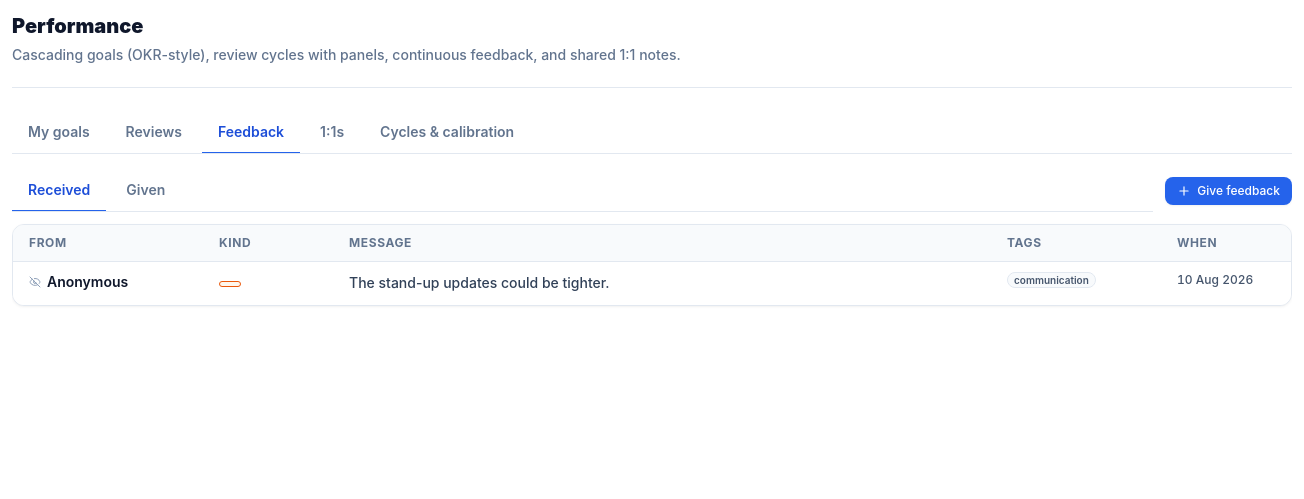
Scenario: feedback › switches to Given, which is a different endpoint
Check: the text "Anonymous" is shown, box [29,272,128,292]
Click the tab "Given" at (146,191), box [110,170,181,212]
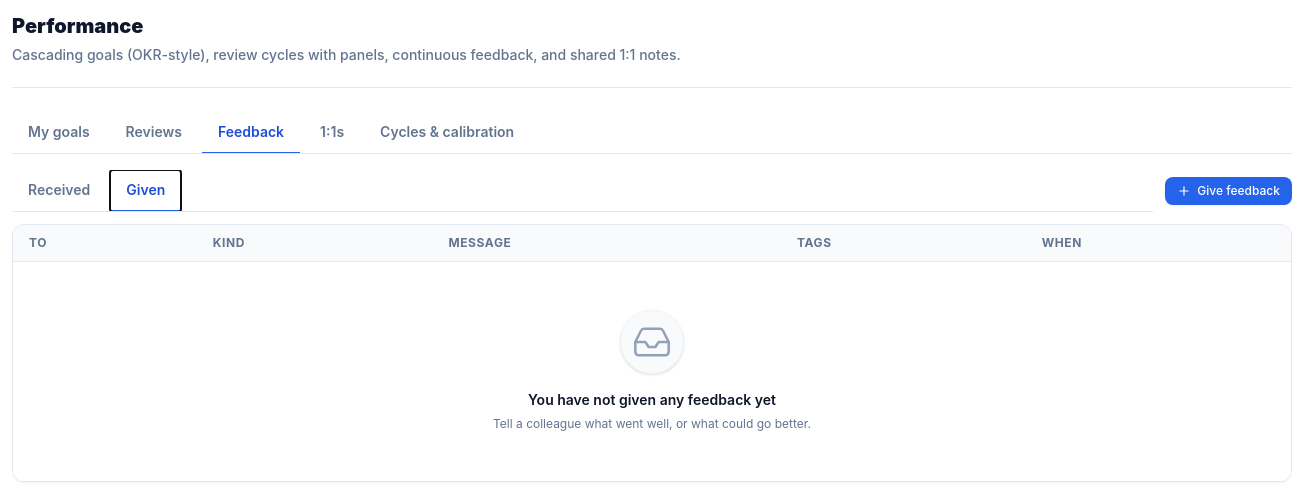
Check: the heading "You have not given any feedback yet" is shown, box [528,390,776,410]
